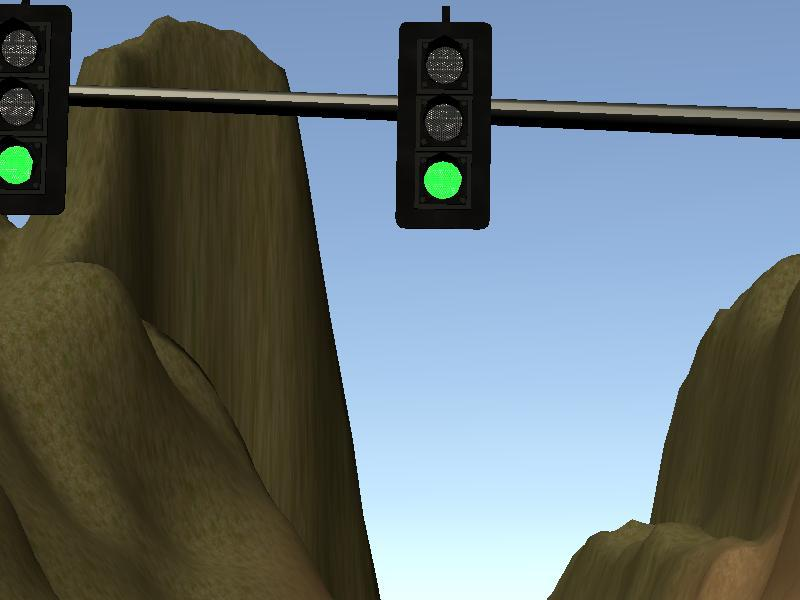Green: (396, 22, 491, 229), (1, 4, 71, 215)
